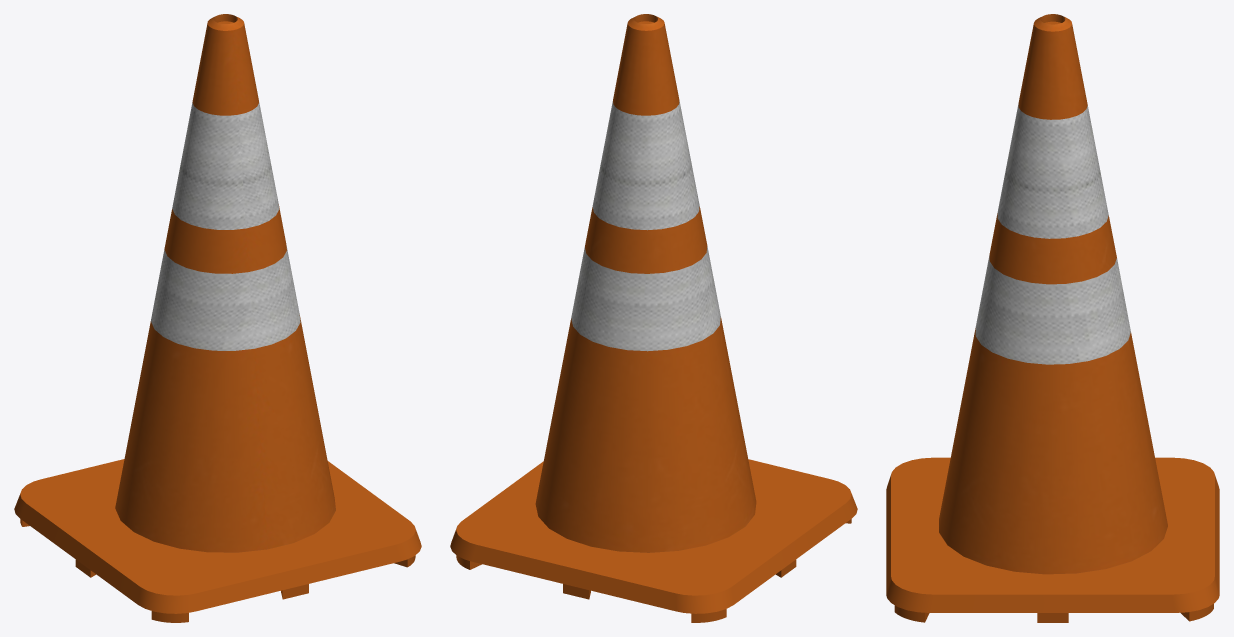
Rendered from traffic-cone-2.glb.
3 views of the same model, side by side, from view 1: azimuth 30°, elevation 25°; view 2: azimuth 150°, elevation 25°; view 3: azimuth 270°, elevation 25° (orthographic). The views are drawn at different scales.
Parts seen in each view (by area): view 1: Object_76; view 2: Object_76; view 3: Object_76.
Part boxes in pixels (left/top/right/bottom): Object_76: left=14, top=14, right=421, bottom=622; Object_76: left=450, top=14, right=857, bottom=622; Object_76: left=886, top=14, right=1219, bottom=622.
Size of the model in its own units: 0.393 by 0.7005 by 0.3928.
Materials: 1 (1 with a texture image).
